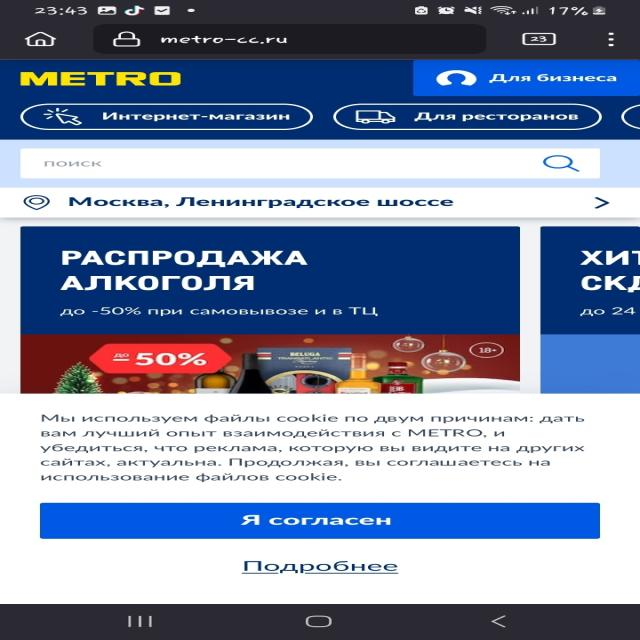button: (42, 502, 602, 540), (55, 555, 598, 585)
site: (0, 394, 640, 605)
